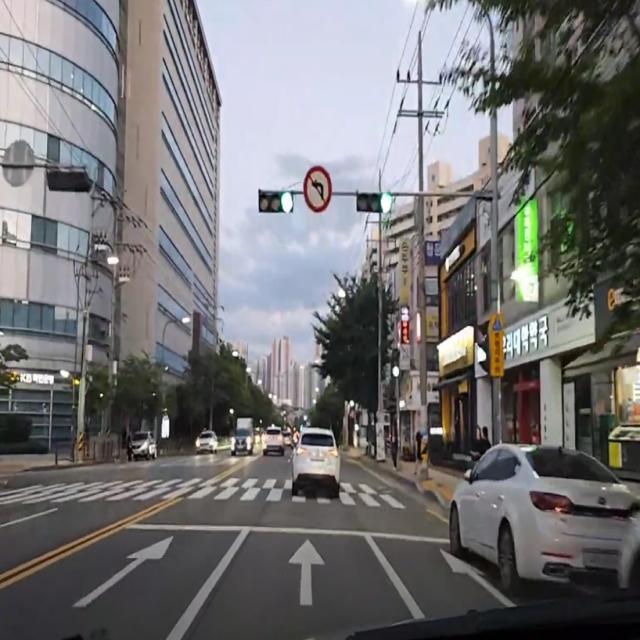Green Light: (280, 190, 293, 214), (379, 192, 393, 212)
